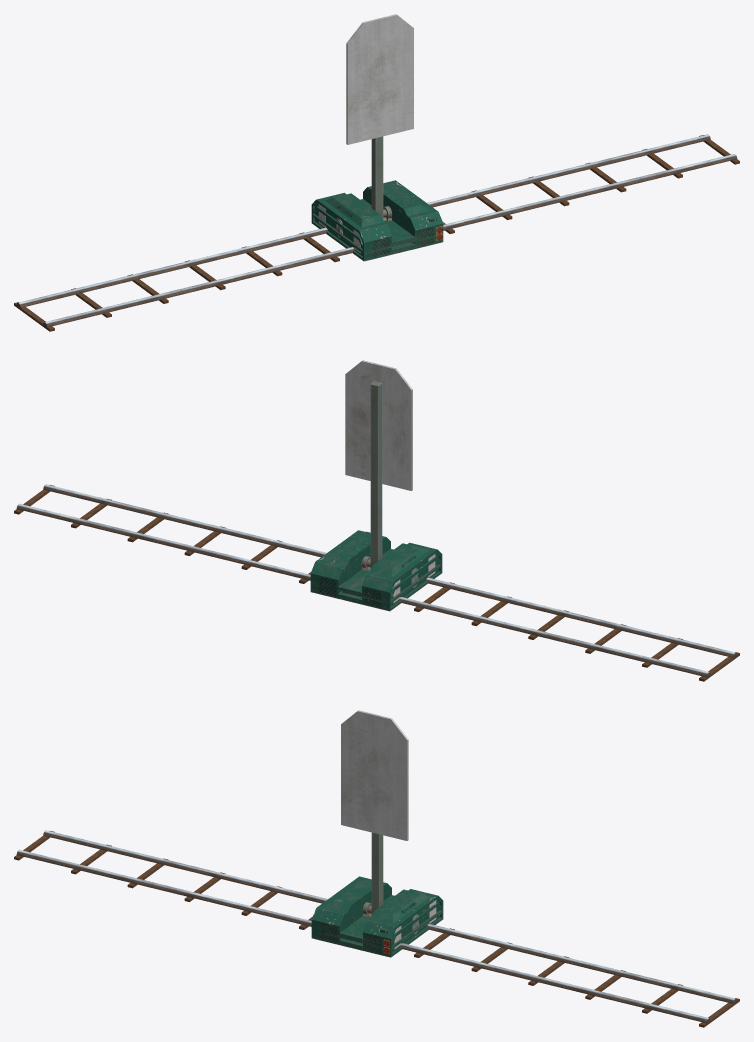
File: SM_Target.FBX
The picture shows the model from 3 angles, top to bottom: view 1: azimuth 30°, elevation 25°; view 2: azimuth 150°, elevation 25°; view 3: azimuth 330°, elevation 25°; orthographic projection.
Visible parts, largest first — view 1: SM_Target_Dynamic_01, SM_Target_Base_Dynamic_01, SM_Target_Track_Start_01, SM_Target_Static_01, SM_Target_Track_End_01, SM_Target_Track_Middle_01, SM_Target_Base_Static_01; view 2: SM_Target_Dynamic_01, SM_Target_Base_Dynamic_01, SM_Target_Track_Start_01, SM_Target_Track_End_01, SM_Target_Track_Middle_01, SM_Target_Base_Static_01, SM_Target_Static_01; view 3: SM_Target_Dynamic_01, SM_Target_Static_01, SM_Target_Base_Dynamic_01, SM_Target_Track_Start_01, SM_Target_Track_End_01, SM_Target_Track_Middle_01, SM_Target_Base_Static_01.
Part boxes in pixels (left/top/right/bottom): SM_Target_Dynamic_01: left=336, top=14, right=413, bottom=229; SM_Target_Base_Dynamic_01: left=311, top=180, right=443, bottom=254; SM_Target_Track_Start_01: left=14, top=246, right=282, bottom=331; SM_Target_Static_01: left=335, top=22, right=413, bottom=237; SM_Target_Track_End_01: left=478, top=134, right=739, bottom=214; SM_Target_Track_Middle_01: left=248, top=190, right=512, bottom=271; SM_Target_Base_Static_01: left=311, top=196, right=443, bottom=261; SM_Target_Dynamic_01: left=345, top=360, right=418, bottom=579; SM_Target_Base_Dynamic_01: left=310, top=530, right=442, bottom=603; SM_Target_Track_Start_01: left=471, top=596, right=739, bottom=681; SM_Target_Track_End_01: left=14, top=484, right=275, bottom=564; SM_Target_Track_Middle_01: left=241, top=540, right=505, bottom=621; SM_Target_Base_Static_01: left=310, top=546, right=442, bottom=611; SM_Target_Static_01: left=345, top=368, right=418, bottom=587; SM_Target_Dynamic_01: left=341, top=710, right=418, bottom=926; SM_Target_Static_01: left=341, top=727, right=419, bottom=933; SM_Target_Base_Dynamic_01: left=311, top=876, right=443, bottom=949; SM_Target_Track_Start_01: left=14, top=830, right=282, bottom=915; SM_Target_Track_End_01: left=476, top=942, right=739, bottom=1027; SM_Target_Track_Middle_01: left=246, top=886, right=512, bottom=971; SM_Target_Base_Static_01: left=311, top=892, right=443, bottom=957.
Size of the model in its own units: 6 by 1.81 by 0.796.
